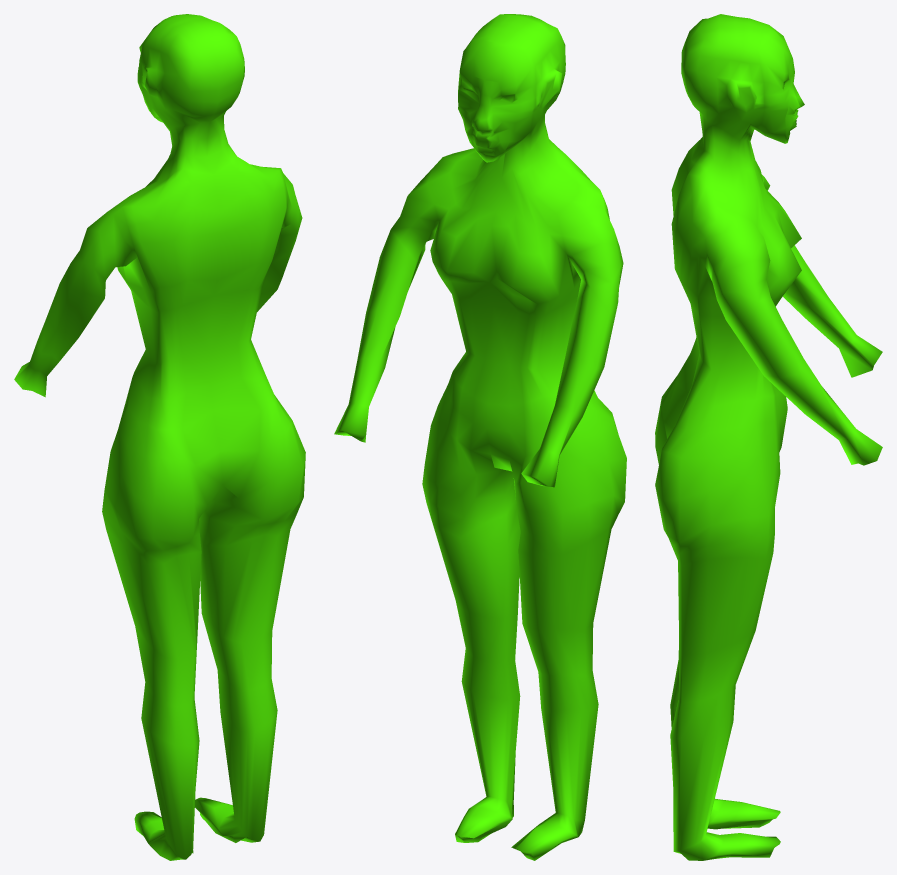
3 views of the same model, side by side, from view 1: azimuth 30°, elevation 25°; view 2: azimuth 150°, elevation 25°; view 3: azimuth 270°, elevation 25° (orthographic).
Visible parts, largest first — view 1: Roundcube.001; view 2: Roundcube.001; view 3: Roundcube.001.
Part boxes in pixels (box(x1,y1,x2,y2)): Roundcube.001: box(14, 14, 305, 860); Roundcube.001: box(334, 14, 626, 860); Roundcube.001: box(655, 14, 882, 860).
Size of the model in its own units: 2.58 by 8.77 by 2.21.
